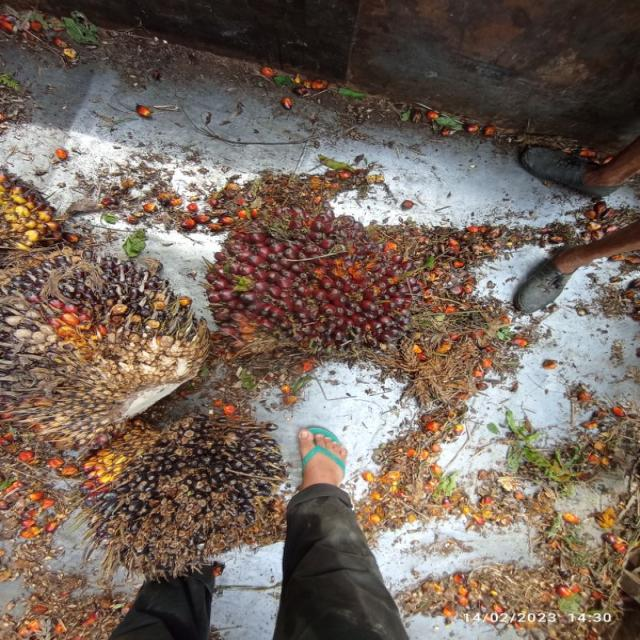fraksi 00: (72, 422, 346, 600)
fraksi 1: (185, 198, 446, 374)
